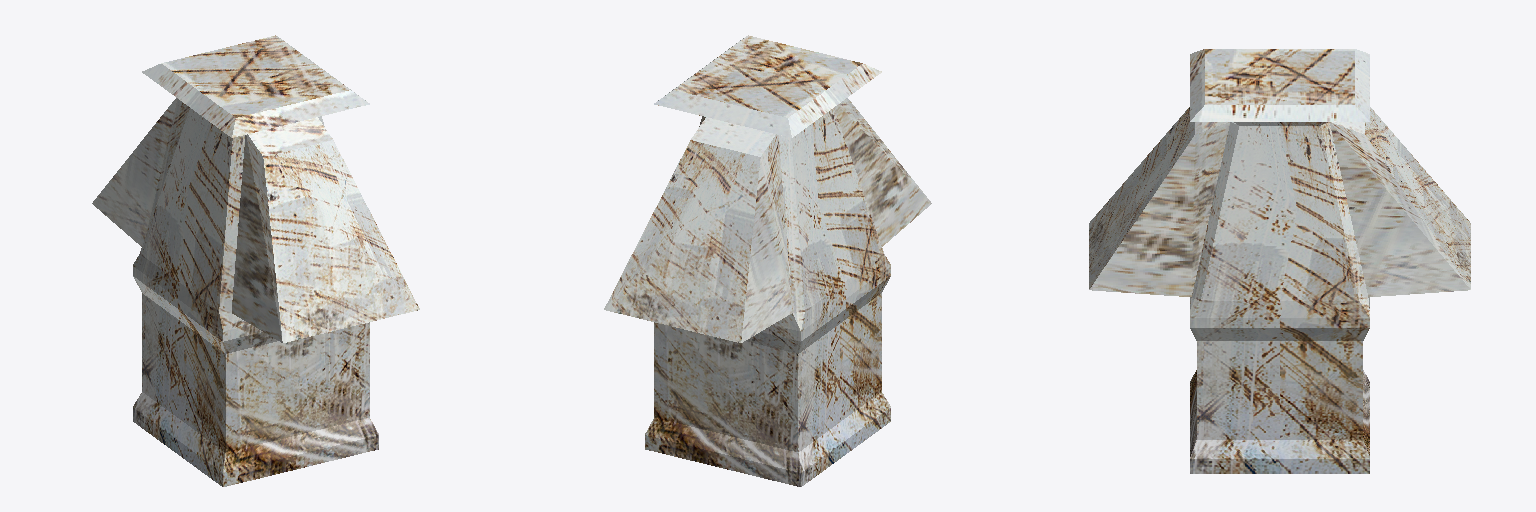
3 views of the same model, side by side, from view 1: azimuth 30°, elevation 25°; view 2: azimuth 150°, elevation 25°; view 3: azimuth 270°, elevation 25° (orthographic).
Parts seen in each view (by area): view 1: airExhaust_3; view 2: airExhaust_3; view 3: airExhaust_3.
Part boxes in pixels (left/top/right/bottom): airExhaust_3: left=92, top=35, right=419, bottom=486; airExhaust_3: left=604, top=35, right=931, bottom=486; airExhaust_3: left=1089, top=49, right=1470, bottom=473.
Size of the model in its own units: 0.3208 by 0.703 by 0.6788.
1 materials, 1 textured.